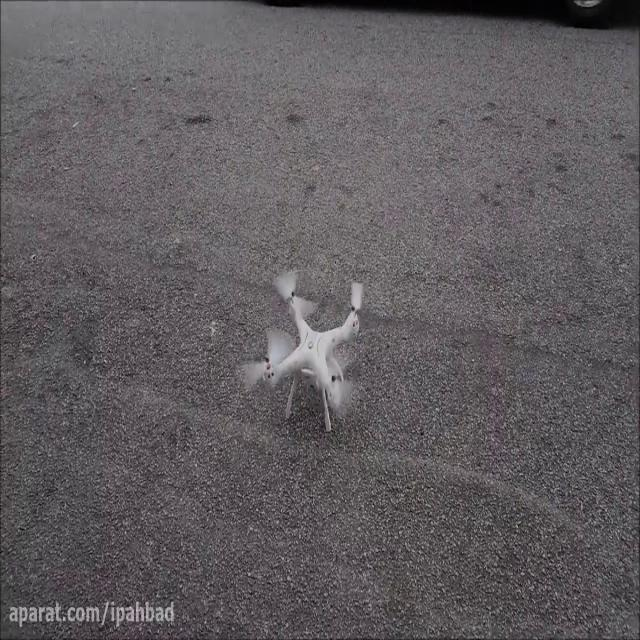drone: (238, 266, 364, 428)
